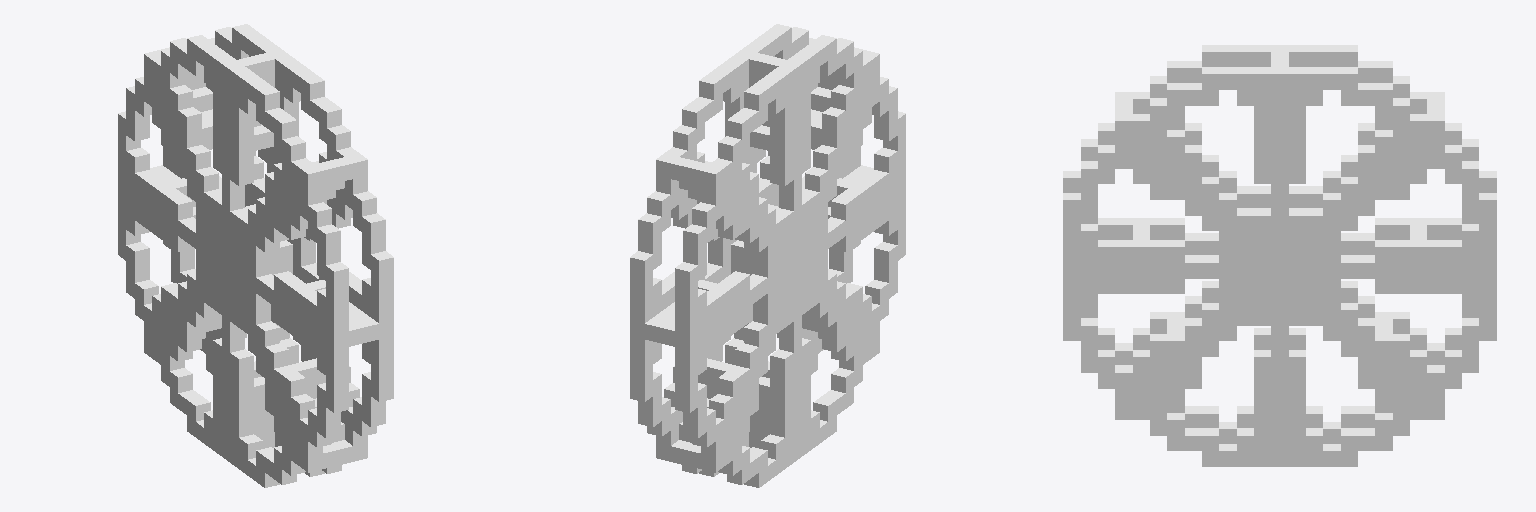
Rendered from lvl1-26.obj.
3 views of the same model, side by side, from view 1: azimuth 30°, elevation 25°; view 2: azimuth 150°, elevation 25°; view 3: azimuth 270°, elevation 25° (orthographic).
Parts seen in each view (by area): view 1: object 1; view 2: object 1; view 3: object 1.
Part boxes in pixels (x1,y1,x2,y2): object 1: (118, 24, 393, 487); object 1: (630, 24, 905, 487); object 1: (1063, 45, 1496, 466).
Bounding box in the file's own units: 0.8 × 5 × 5.